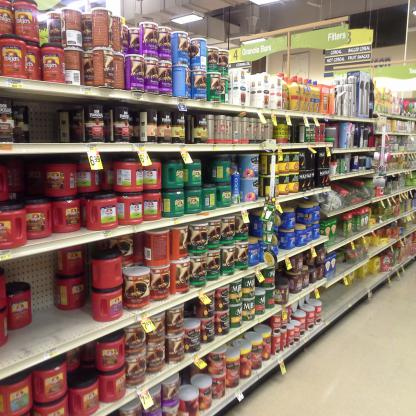Void: (30, 261, 94, 335), (31, 106, 66, 142), (22, 162, 46, 200), (66, 353, 101, 371), (184, 304, 201, 324), (203, 162, 217, 186), (289, 120, 299, 148), (278, 264, 289, 282)
